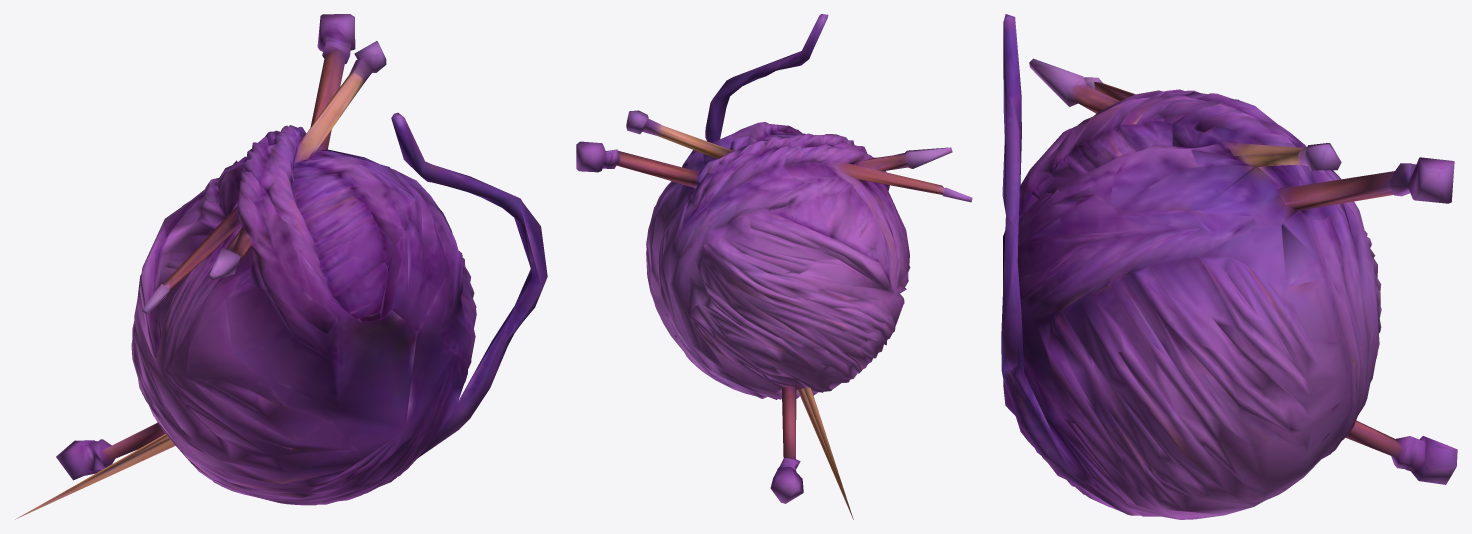
The picture shows the model from 3 angles, left to right: view 1: azimuth 30°, elevation 25°; view 2: azimuth 150°, elevation 25°; view 3: azimuth 270°, elevation 25°; orthographic projection. The views are drawn at different scales.
Parts seen in each view (by area): view 1: material; view 2: material; view 3: material.
Boxes of the visible parts, x1,y1,x2,y2 form: material: [15, 14, 547, 519]; material: [576, 14, 972, 519]; material: [1001, 14, 1457, 519].
Size of the model in its own units: 0.8159 by 1 by 0.7389.
1 material, 1 textured.
